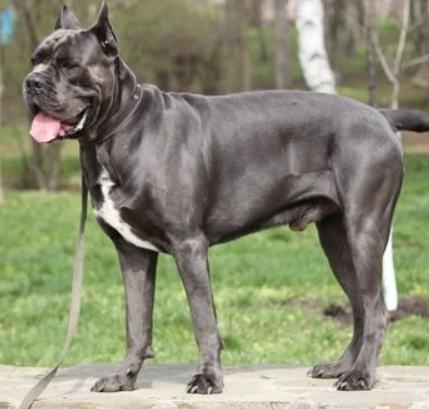dog: (25, 4, 408, 391)
